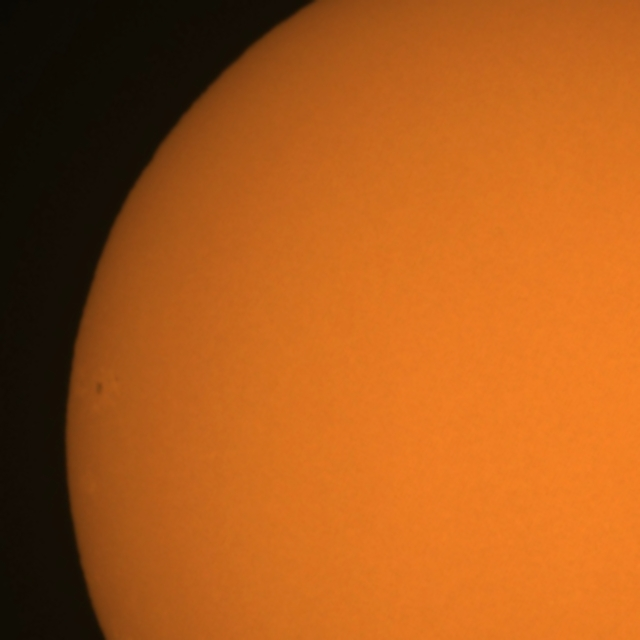sunspot: (93, 374, 121, 398), (93, 379, 106, 398)
